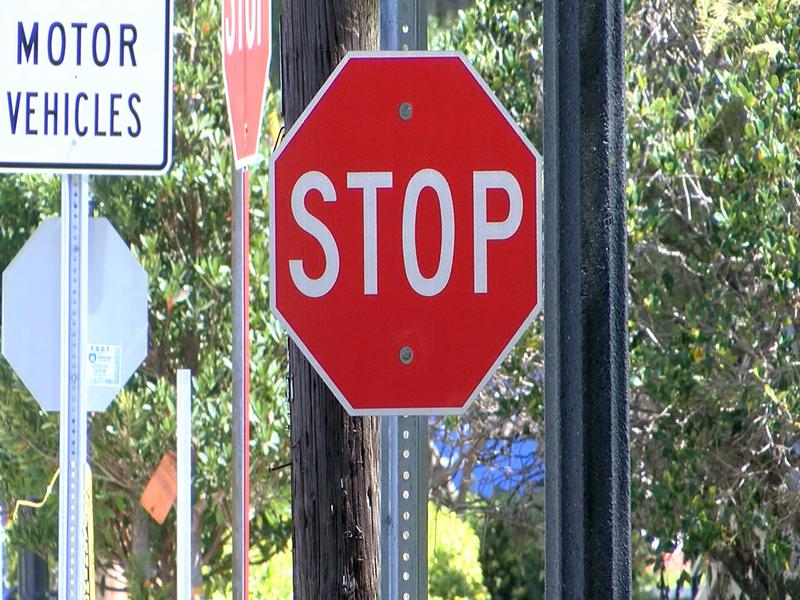stop: (267, 39, 545, 416)
